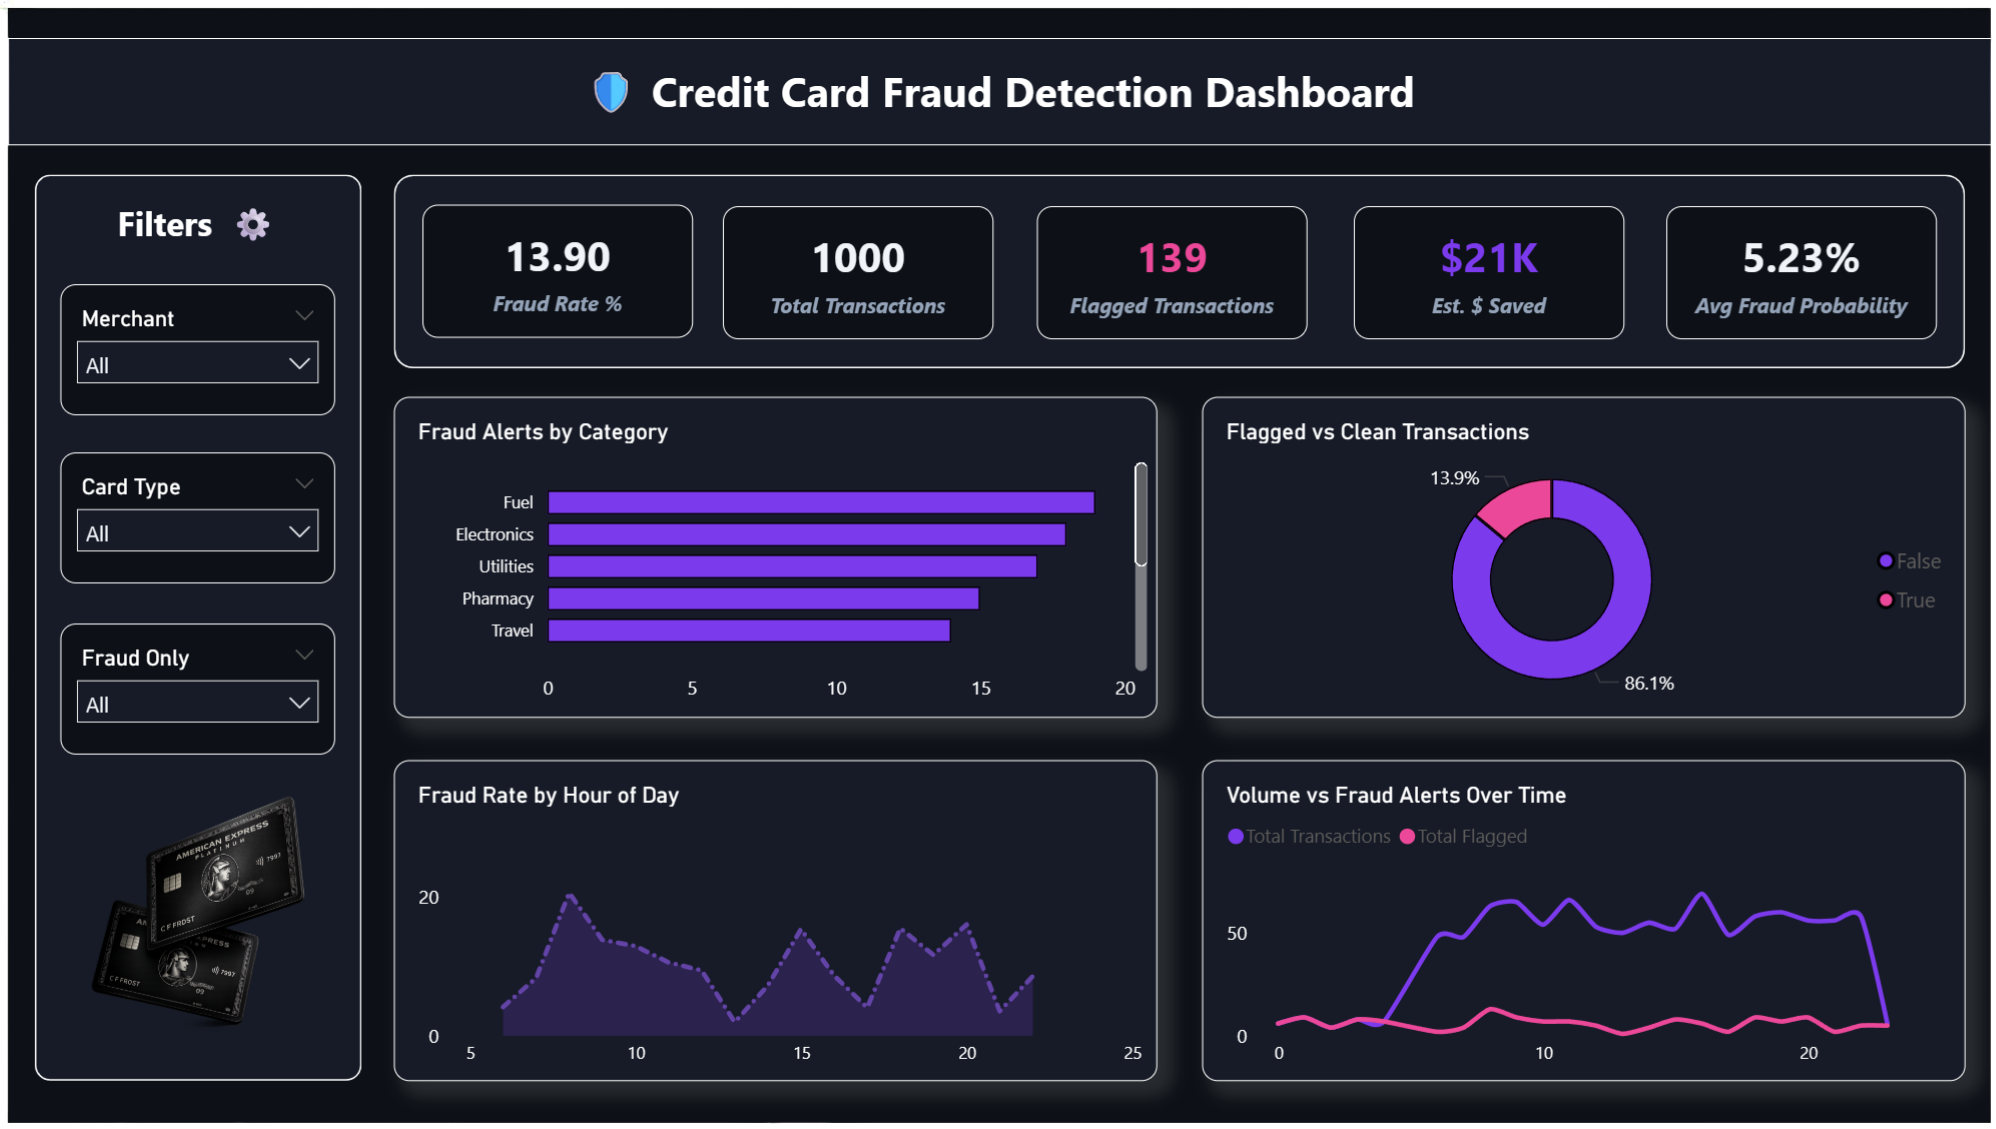

This screenshot's page, from the dashboard's own definition file:
{"tool":"powerbi","page":{"name":" Page 1","canvas":[1280,720],"ordinal":0},"visuals":[{"type":"textbox","box":[0,19,1280.4,69.5],"z":0},{"type":"shape","box":[249.1,107.8,1013.9,125.1],"z":1000},{"type":"card","fields":{"Values":["transactions.Fraud Rate %"]},"box":[267.7,126.7,175,85.7],"z":2000},{"type":"card","fields":{"Values":["transactions.Total Flagged"]},"box":[664,127.8,175,85.7],"z":3000},{"type":"card","fields":{"Values":["transactions.Total Transactions"]},"box":[461.2,127.8,175,85.7],"z":4000},{"type":"card","fields":{"Values":["transactions.Estimated Savings"]},"box":[869,127.8,175,85.7],"z":5000},{"type":"card","fields":{"Values":["transactions.Avg Fraud Probability"]},"box":[1070.7,127.8,175,85.7],"z":6000},{"type":"shape","box":[17.4,107.8,210.9,585.2],"z":7000},{"type":"slicer","fields":{"Values":["transactions.merchant_category"]},"box":[33.6,178.4,177.3,84.6],"z":8000},{"type":"slicer","fields":{"Values":["transactions.card_type"]},"box":[33.6,287.4,177.3,84.6],"z":9000},{"type":"slicer","fields":{"Values":["transactions.is_flagged"]},"box":[33.6,397.4,177.3,84.6],"z":10000},{"type":"clusteredBarChart","title":"Fraud Alerts by Category","fields":{"Category":["transactions.merchant_category"],"Y":["transactions.Total Flagged"]},"box":[249.1,251.4,492.5,207.4],"z":11000},{"type":"donutChart","title":"Flagged vs Clean Transactions","fields":{"Category":["transactions.is_flagged"],"Y":["transactions.Total Transactions"]},"box":[770.6,251.4,492.5,207.4],"z":12000},{"type":"areaChart","title":"Fraud Rate by Hour of Day","fields":{"Y":["transactions.Fraud Rate %"],"Category":["transactions.transaction_hour"]},"box":[249.1,485.5,492.5,207.4],"z":13000},{"type":"lineChart","title":"Volume vs Fraud Alerts Over Time","fields":{"Y":["transactions.Total Transactions","transactions.Total Flagged"],"Category":["transactions.transaction_hour"]},"box":[770.6,485.5,492.5,207.4],"z":14000},{"type":"textbox","box":[47.5,113.6,141.4,46.3],"z":15000},{"type":"image","box":[13.9,458.9,208.6,252.6],"z":16000}]}

Visuals, with their boxes in screenshot pixels (x1, y1, x2, y2), scaled from the page's 1280x720 canvas onto the 1996x1129 screenshot:
textbox: l=0, t=30, r=1995, b=139
shape: l=388, t=169, r=1969, b=365
card - transactions.Fraud Rate %: l=417, t=199, r=690, b=333
card - transactions.Total Flagged: l=1035, t=200, r=1308, b=335
card - transactions.Total Transactions: l=719, t=200, r=992, b=335
card - transactions.Estimated Savings: l=1355, t=200, r=1628, b=335
card - transactions.Avg Fraud Probability: l=1670, t=200, r=1943, b=335
shape: l=27, t=169, r=356, b=1087
slicer - transactions.merchant_category: l=52, t=280, r=329, b=412
slicer - transactions.card_type: l=52, t=451, r=329, b=583
slicer - transactions.is_flagged: l=52, t=623, r=329, b=756
"Fraud Alerts by Category" clusteredBarChart: l=388, t=394, r=1156, b=719
"Flagged vs Clean Transactions" donutChart: l=1202, t=394, r=1970, b=719
"Fraud Rate by Hour of Day" areaChart: l=388, t=761, r=1156, b=1087
"Volume vs Fraud Alerts Over Time" lineChart: l=1202, t=761, r=1970, b=1087
textbox: l=74, t=178, r=295, b=251
image: l=22, t=720, r=347, b=1116
